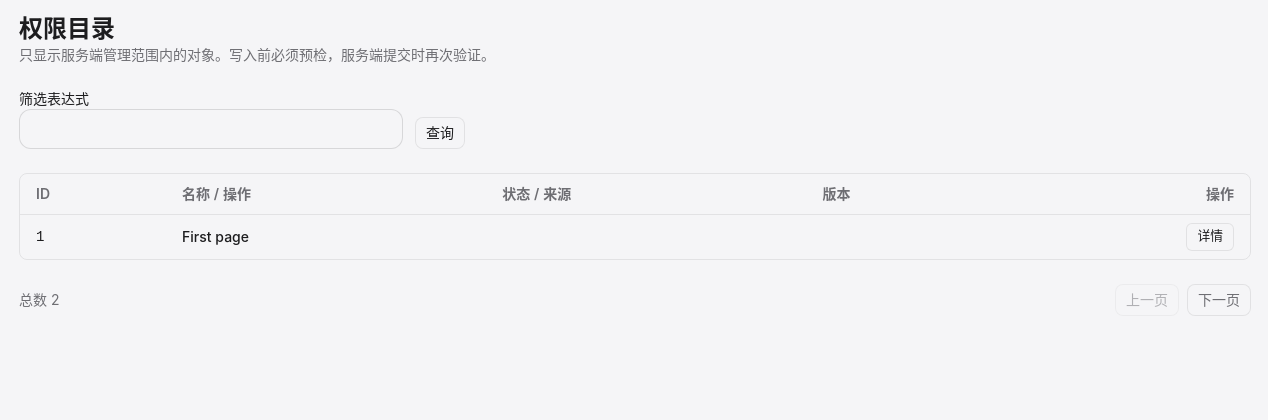
Test case: IAM page presentation › shows loading before the empty state and preserves token pagination when filtering
Check: the element named "加载中..." is shown, box [19,173,1251,260]
Check: the text "暂无数据" is not shown
Click the button "下一页": (1219, 300) [1187,284,1251,316]
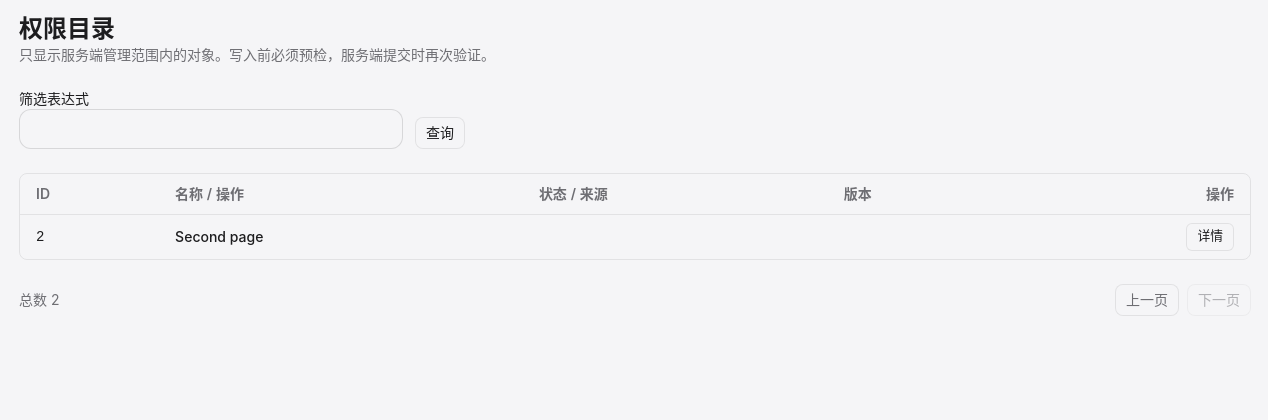
Check: the text "Second page" is shown, box [159,214,523,258]
Check: the button "上一页" is enabled, box [1115,284,1179,316]
In the field labelled "筛选表达式": (211, 129) [19,109,403,149], type "status=\"disabled\""
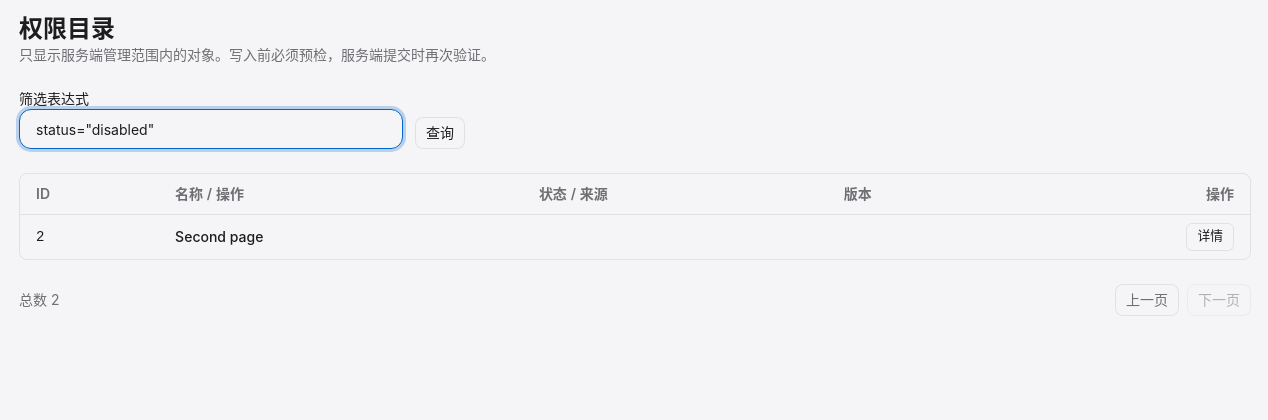
Click the button "查询": (440, 133) [415,117,465,149]
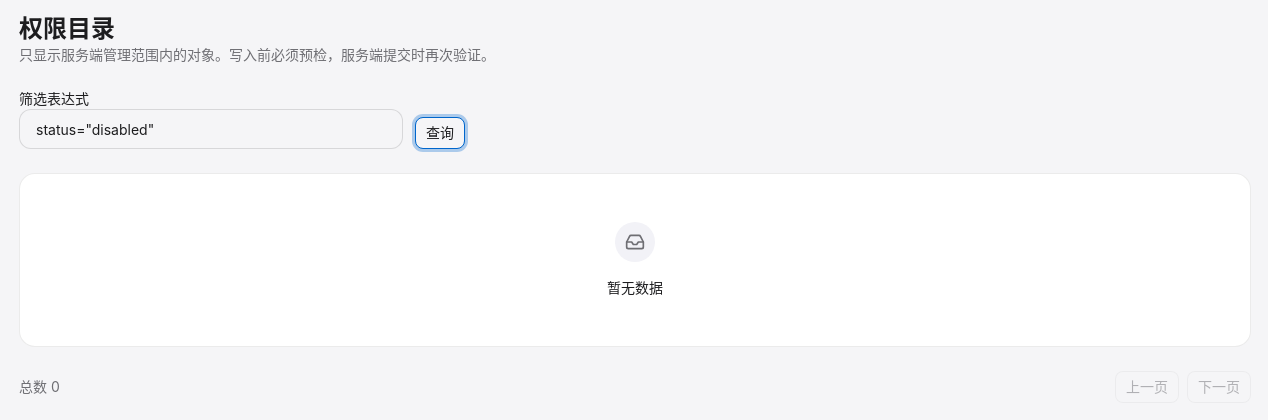
Check: the text "暂无数据" is shown, box [607,278,663,298]
Check: the button "上一页" is disabled, box [1115,371,1179,403]
